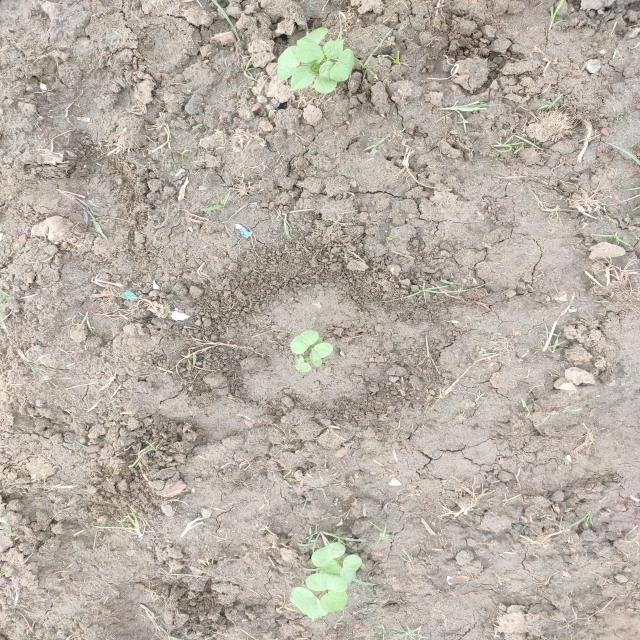seedling_s4: (289, 587, 328, 618), (311, 542, 345, 567), (277, 45, 301, 80), (330, 48, 355, 81), (306, 573, 348, 592), (314, 60, 337, 94), (290, 330, 319, 354), (292, 43, 325, 64), (296, 27, 330, 46), (340, 555, 362, 584), (320, 591, 348, 612), (291, 66, 314, 91), (322, 40, 344, 59), (312, 343, 333, 360), (320, 560, 342, 575), (295, 355, 310, 372)
